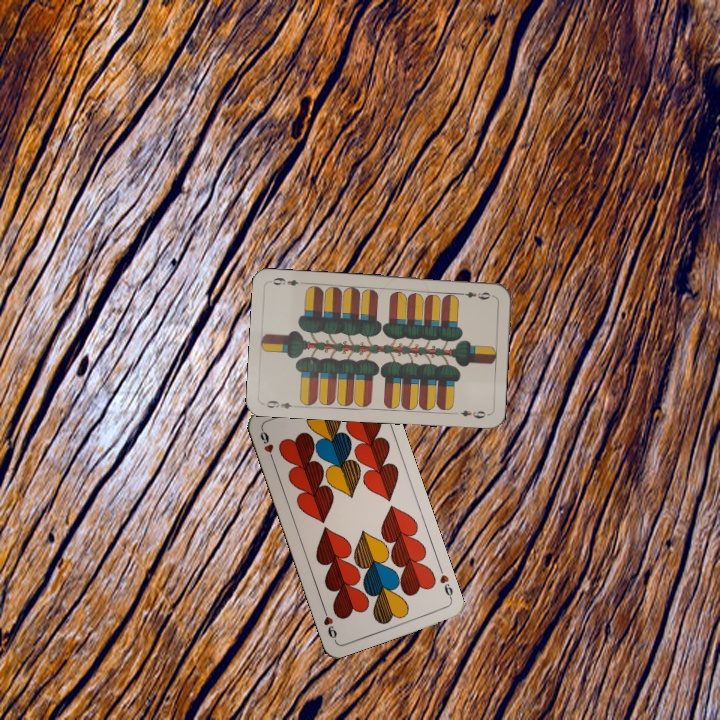E9: (262, 396, 301, 411), (455, 288, 493, 302)
H9: (256, 425, 277, 465), (435, 563, 456, 602)
